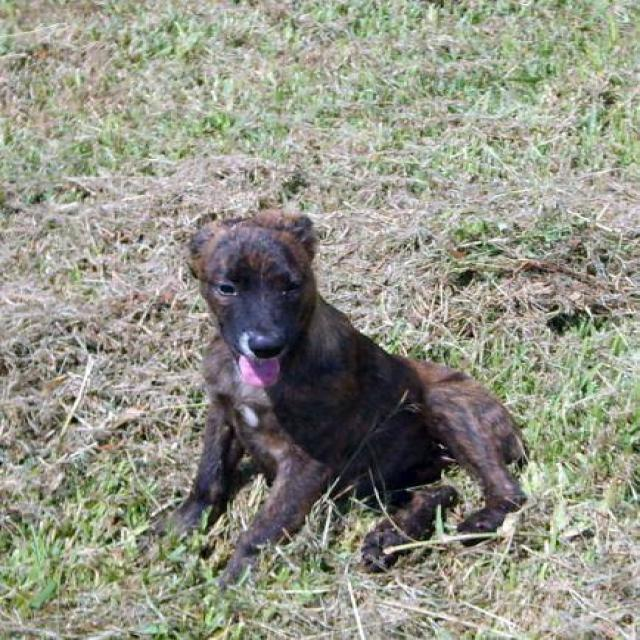dog: (146, 206, 531, 594)
